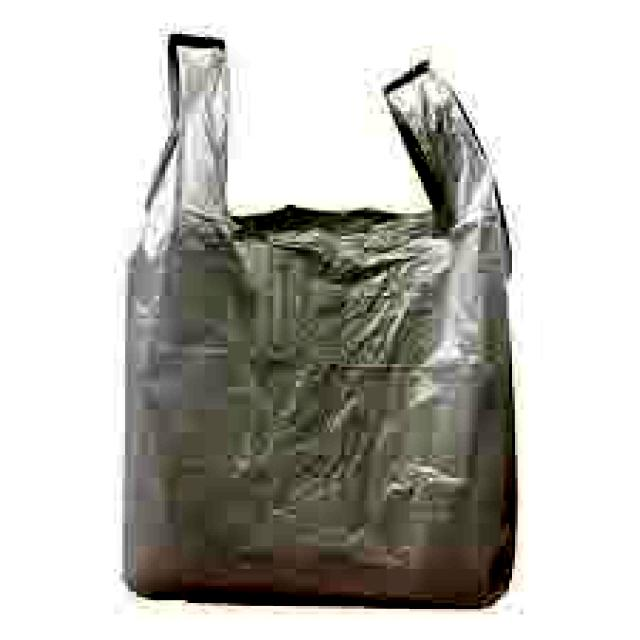Plastic: (116, 29, 520, 615)
